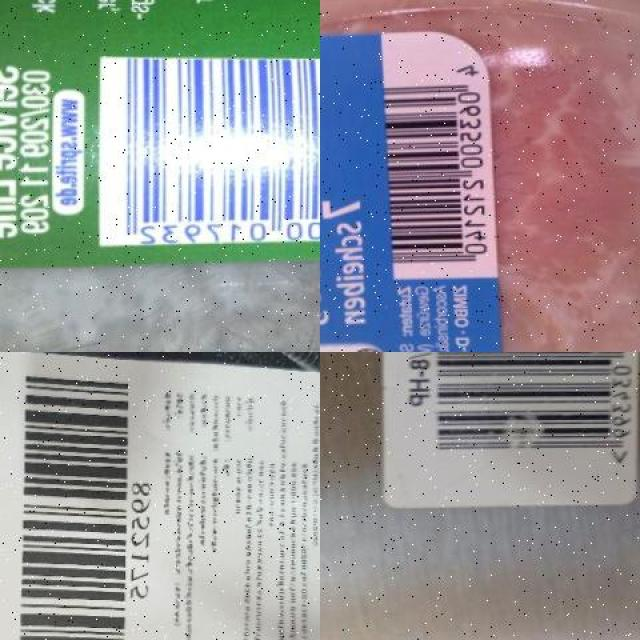Barcode: (97, 52, 320, 245), (4, 362, 150, 640), (374, 53, 514, 279), (428, 352, 640, 475)
